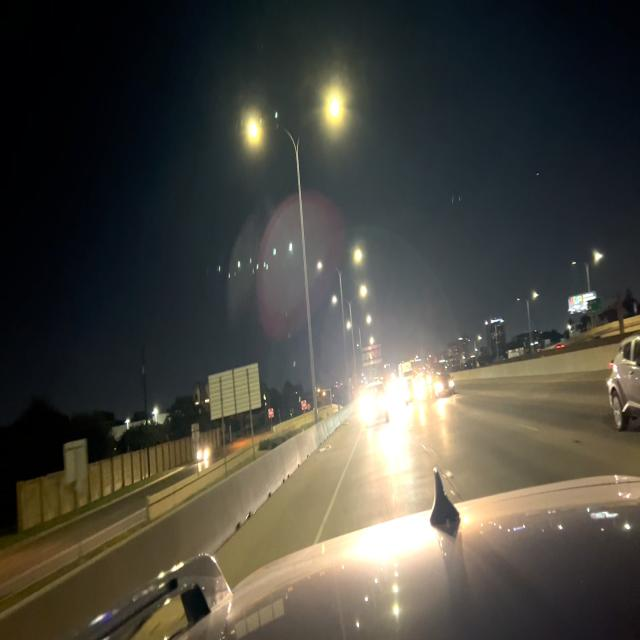back-of-sign: (208, 361, 263, 423), (62, 436, 89, 493), (358, 340, 384, 368)
